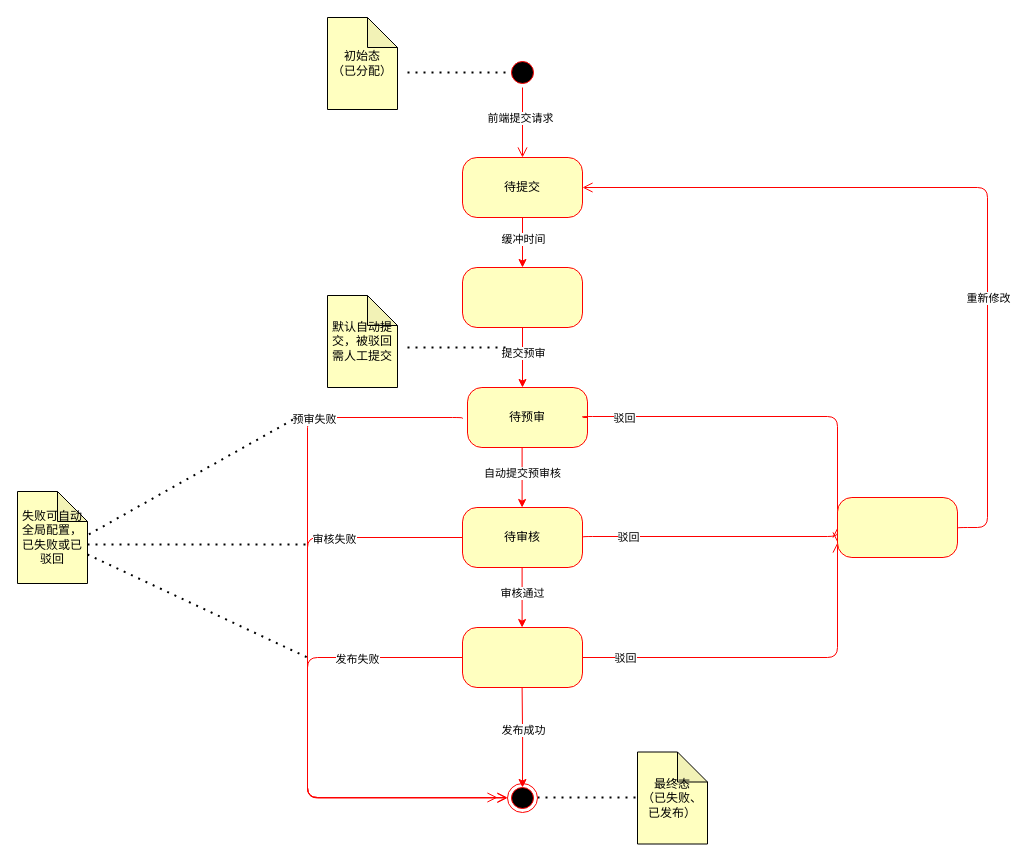
This 1027x862 diagram has some shape labels left out. The centre of each missing label's shape, as x and y in pixels:
已提交: the point at 522,297
已驳回: the point at 897,527
待发布: the point at 522,657
